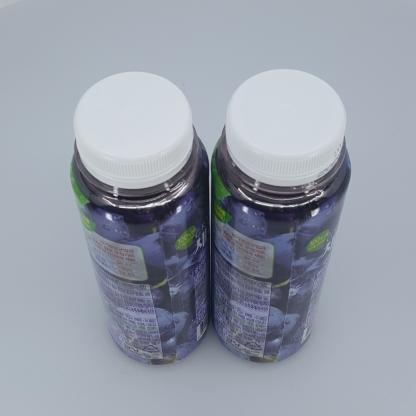---------210ML: (70, 71, 211, 365), (210, 69, 351, 363), (366, 229, 367, 230)
